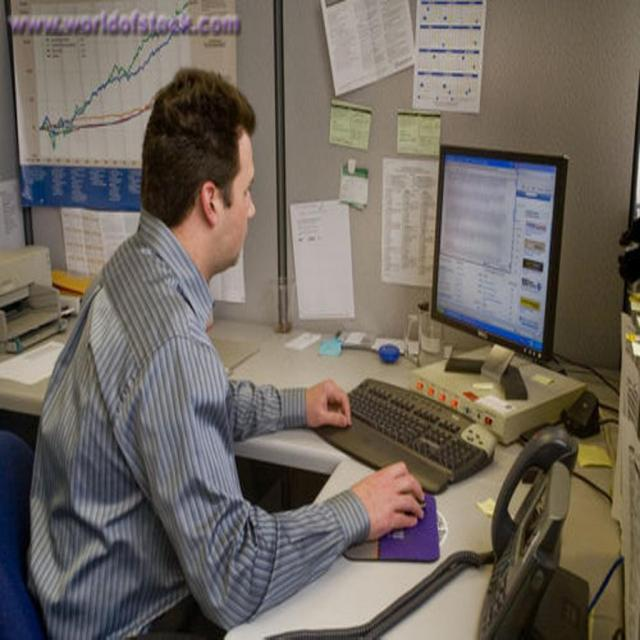nomask: (198, 123, 254, 269)
